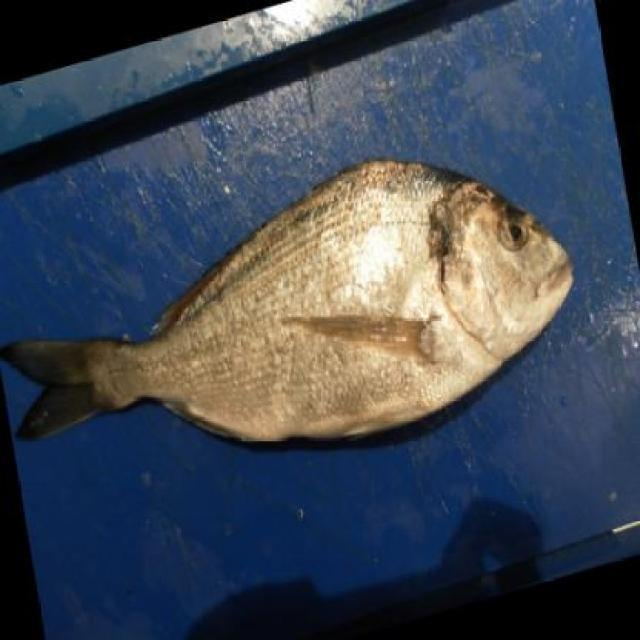Healthy Fish: (0, 148, 575, 455)
